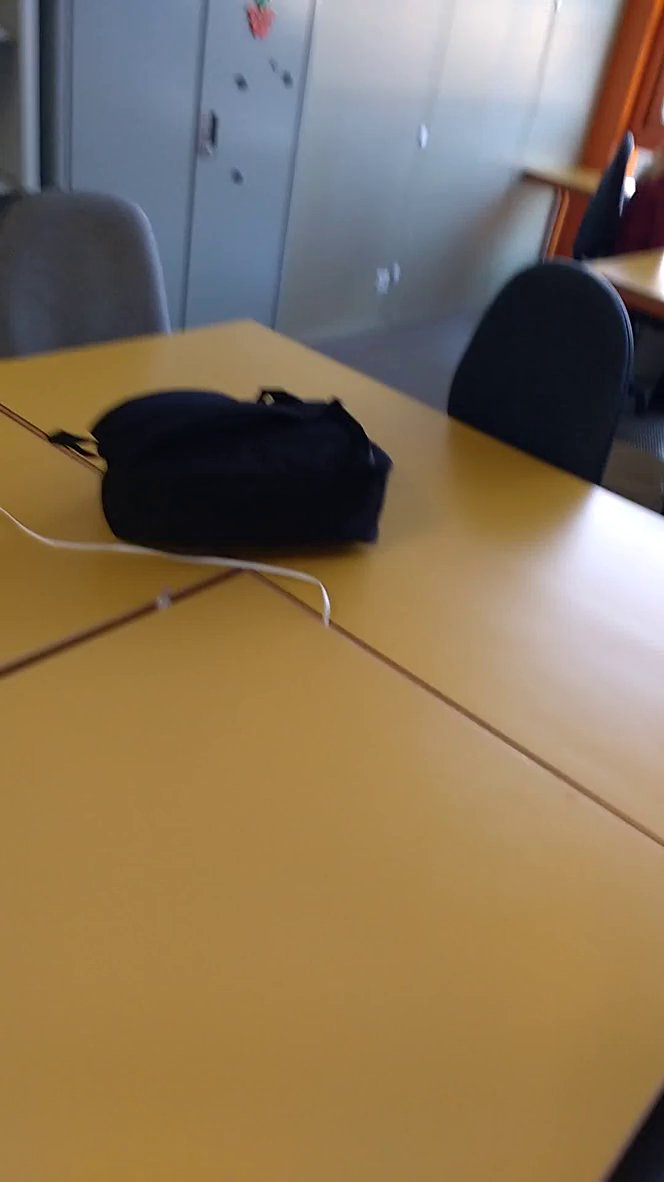bag: (51, 372, 403, 580)
chair: (440, 246, 648, 507), (1, 174, 180, 375)
